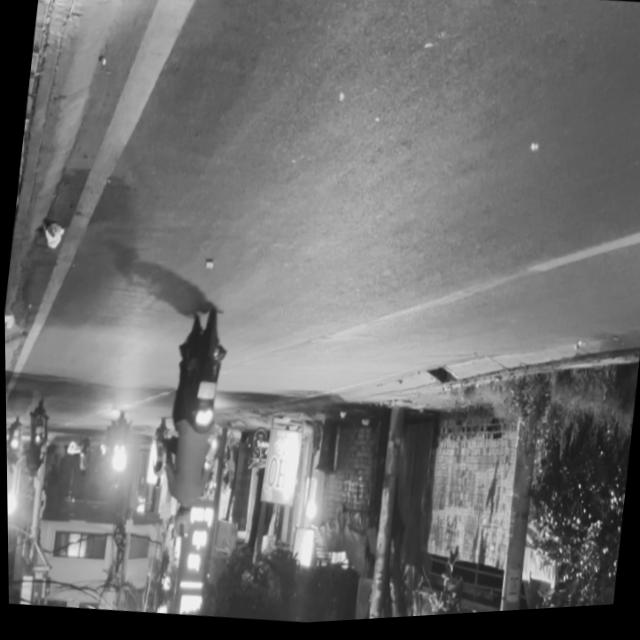helmet: (169, 506, 192, 542)
licenseplate: (150, 308, 233, 547)
nohelmet: (194, 381, 214, 402)
